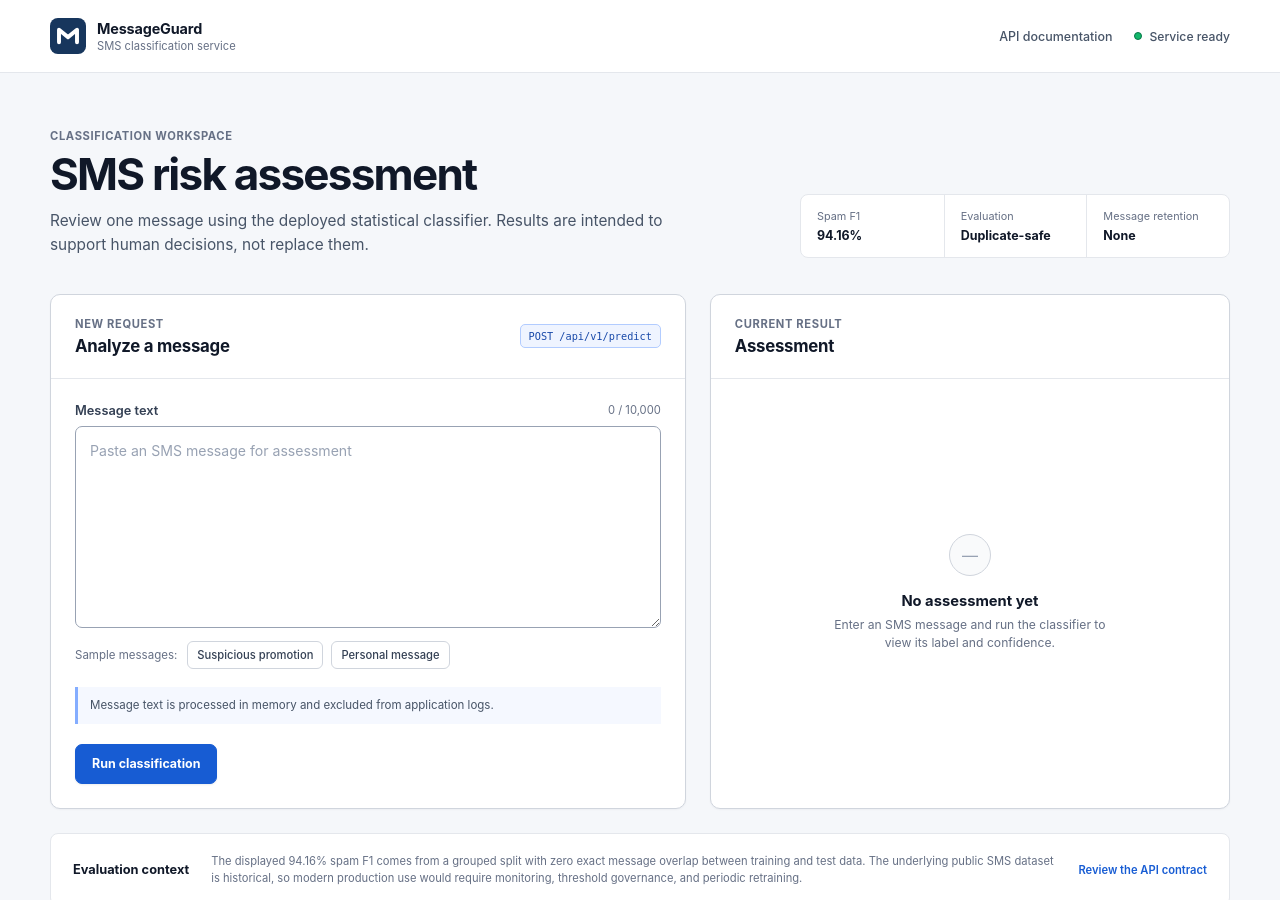
Test case: App › shows service readiness and classifies a suspicious example
Expected: the text "Service ready" is shown, [1134,28,1230,44]
Step 1. Click the button "Suspicious promotion" → (255, 655), box [187,641,323,669]
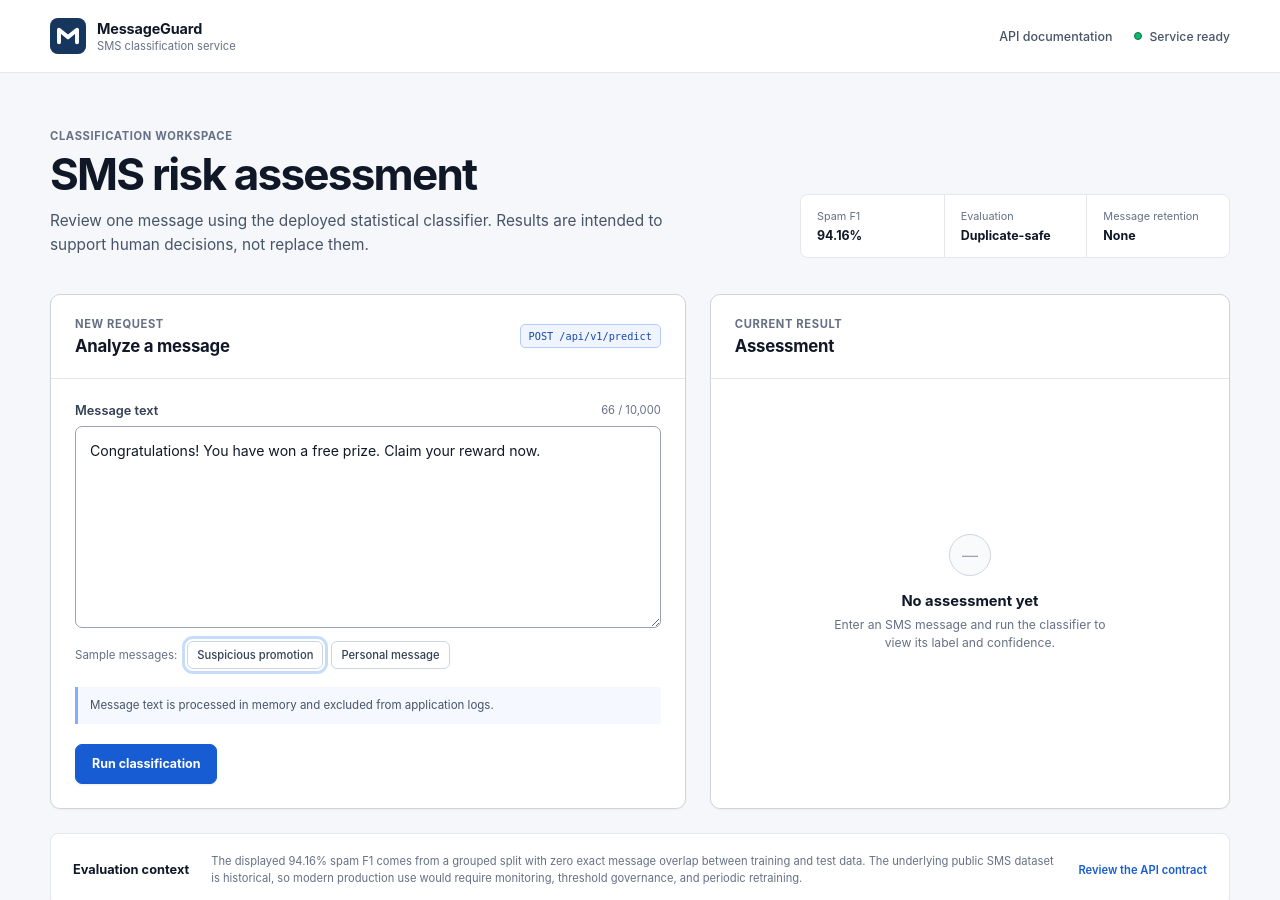
Step 2. Click the button "Run classification" → (146, 764), box [75,744,218,784]
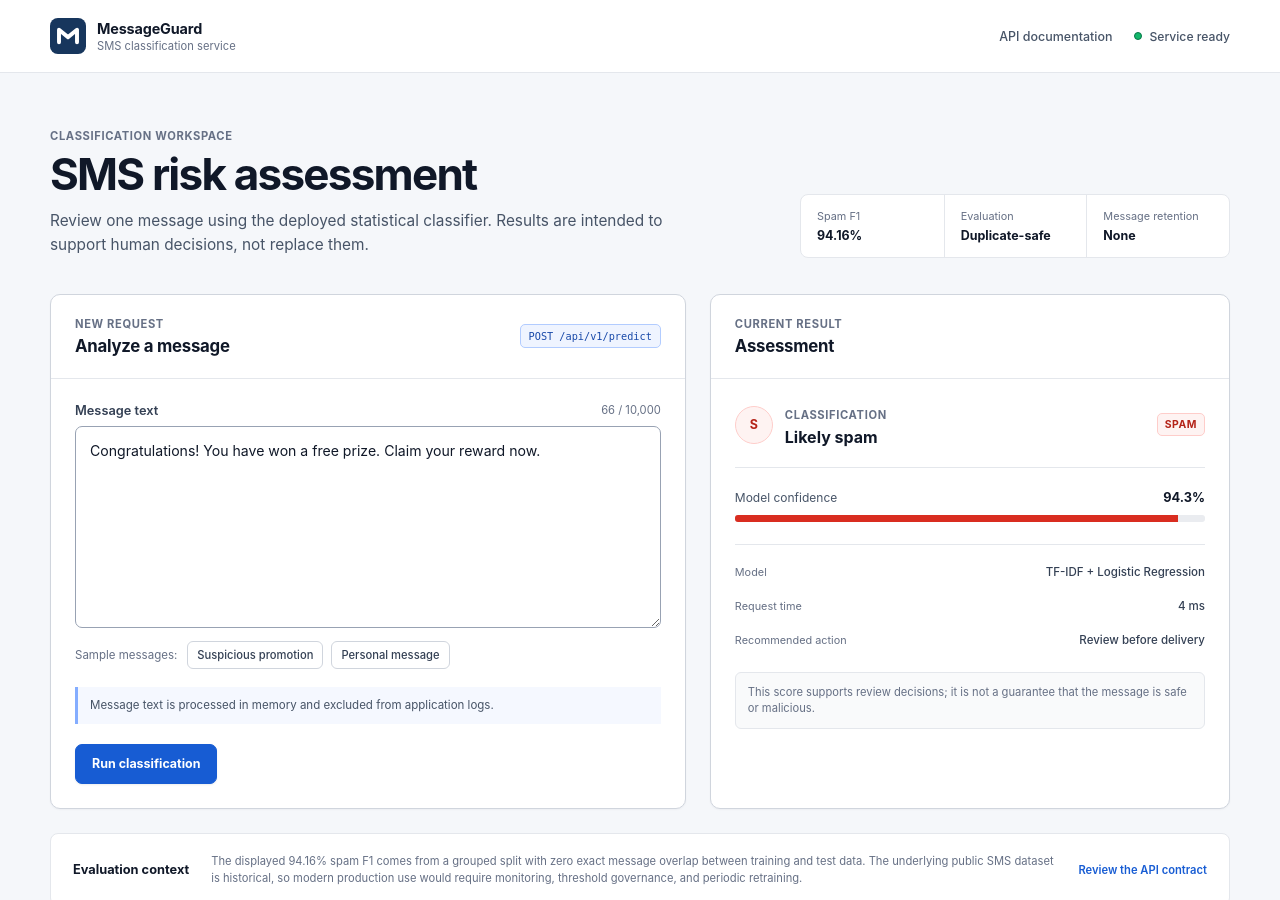
Now the heading "Likely spam" is shown, box [785,427,887,447]
Now the text "94.3%" is shown, box [1163,490,1205,505]
